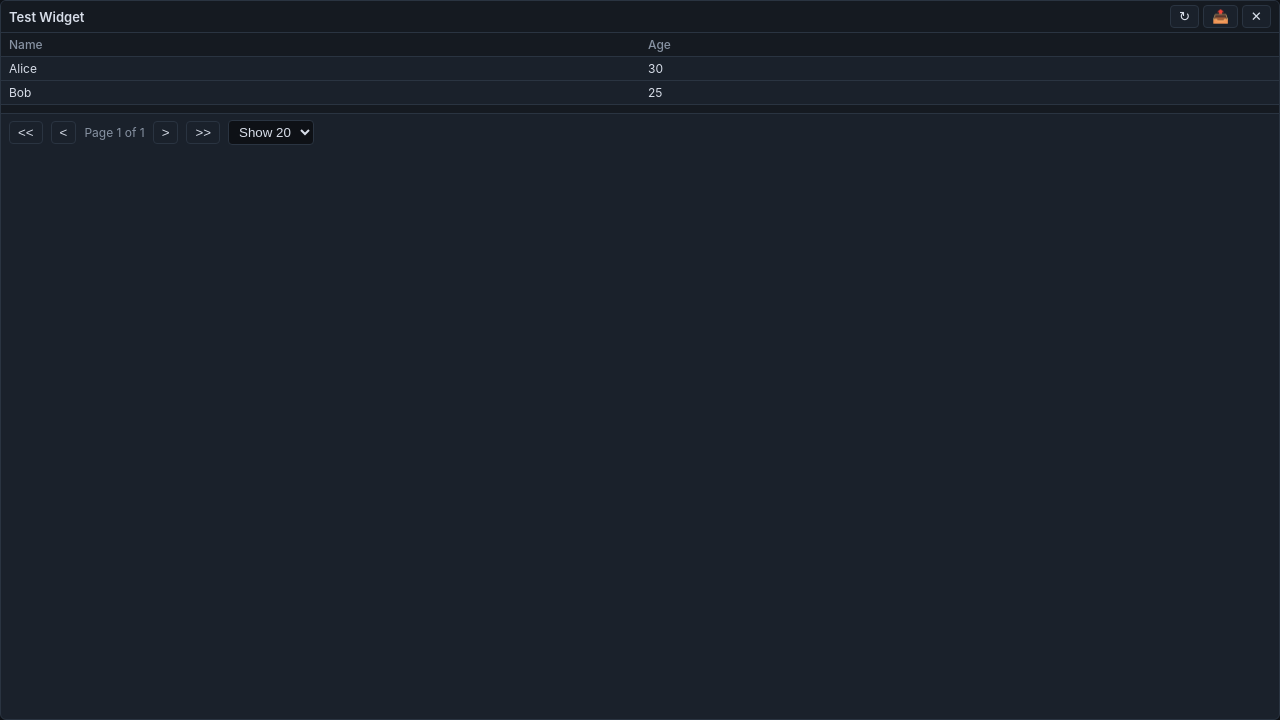
Test case: Send to Symphony › shows a confirmation after a successful send
Expected: the text "Alice" is shown, [1,56,640,80]
Click the button named "send to symphony" at point(1220, 16), box [1203,5,1238,28]
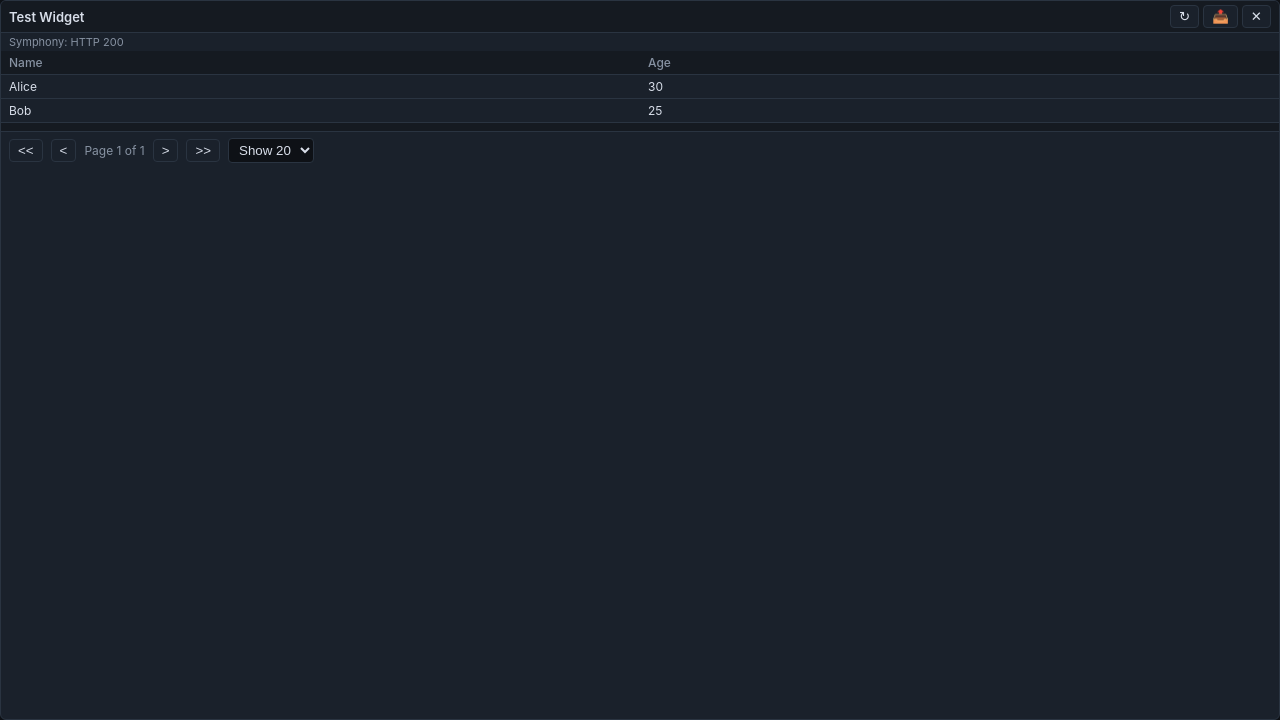
Now the text "Symphony: HTTP 200" is shown, box [9,35,124,49]
